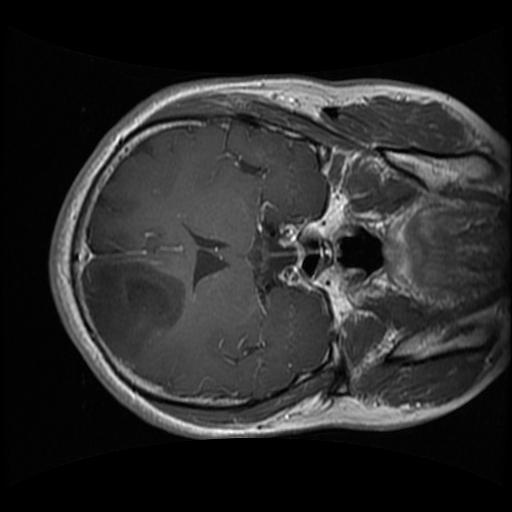glioma: (80, 256, 187, 363)
